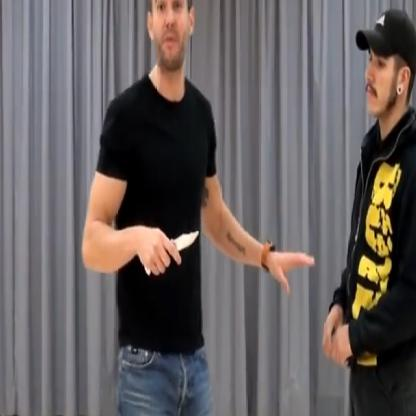knife: (141, 217, 202, 282)
